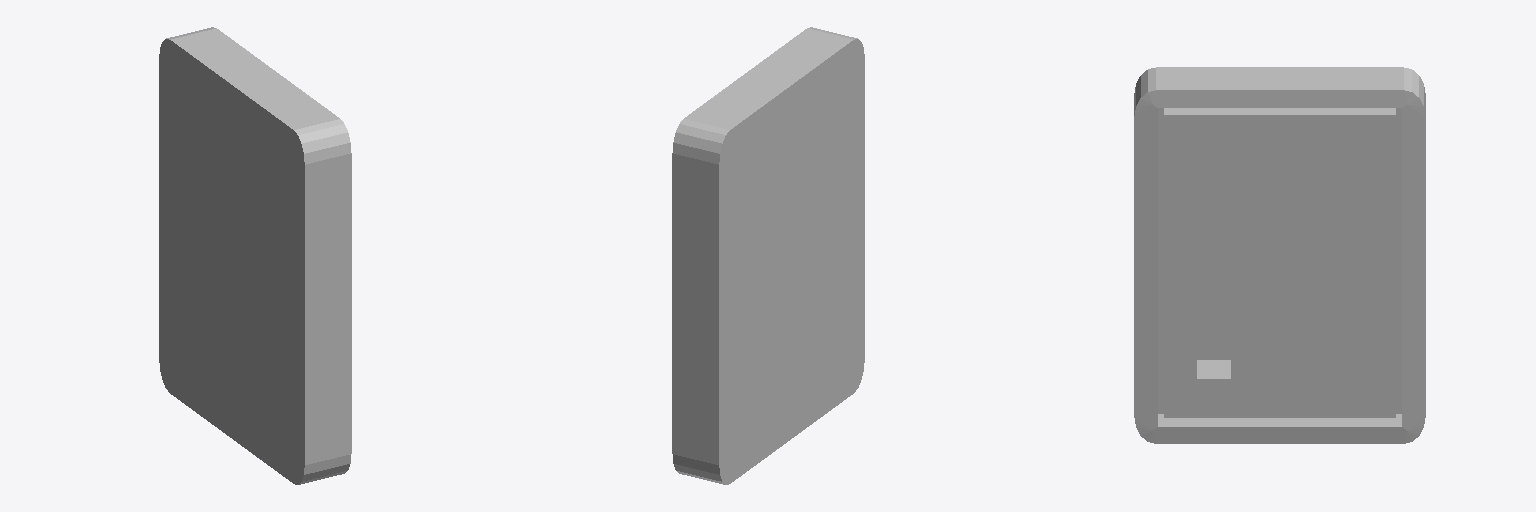
File: deposit.obj
The picture shows the model from 3 angles: view 1: azimuth 30°, elevation 25°; view 2: azimuth 150°, elevation 25°; view 3: azimuth 270°, elevation 25°; orthographic projection.
Parts seen in each view (by area): view 1: deposit_Cube.003; view 2: deposit_Cube.003; view 3: deposit_Cube.003.
Boxes of the visible parts, box(x1,y1,x2,y2) form: deposit_Cube.003: box(159, 27, 351, 484); deposit_Cube.003: box(672, 27, 864, 484); deposit_Cube.003: box(1134, 67, 1425, 443).
Size of the model in its own units: 0.1006 by 0.7072 by 0.5274.